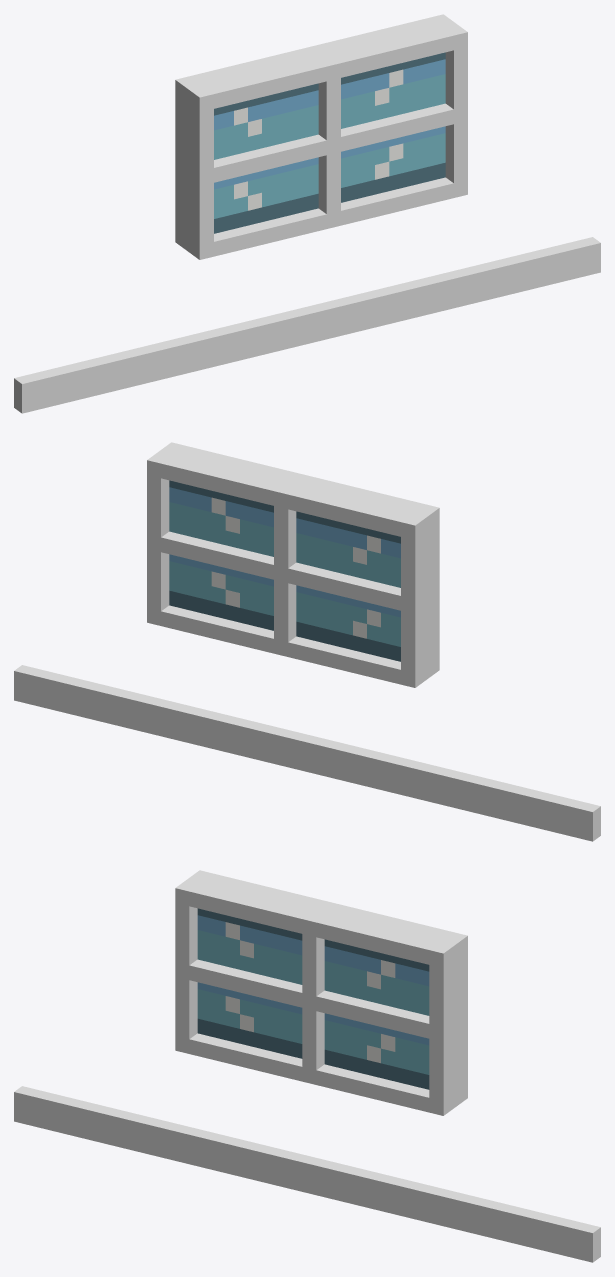
File: wall_normal_window.obj
The picture shows the model from 3 angles, top to bottom: view 1: azimuth 30°, elevation 25°; view 2: azimuth 150°, elevation 25°; view 3: azimuth 330°, elevation 25°; orthographic projection.
Size of the model in its own units: 4.1 by 1.9 by 0.3.
Materials: 1 (1 with a texture image).
